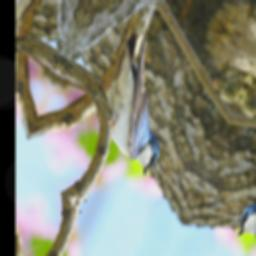Swallow: (75, 15, 202, 179)
